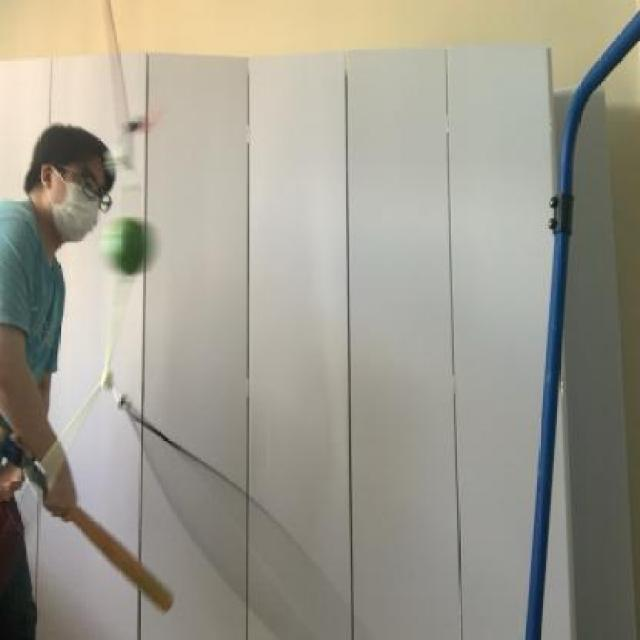baseball: (101, 206, 156, 283)
